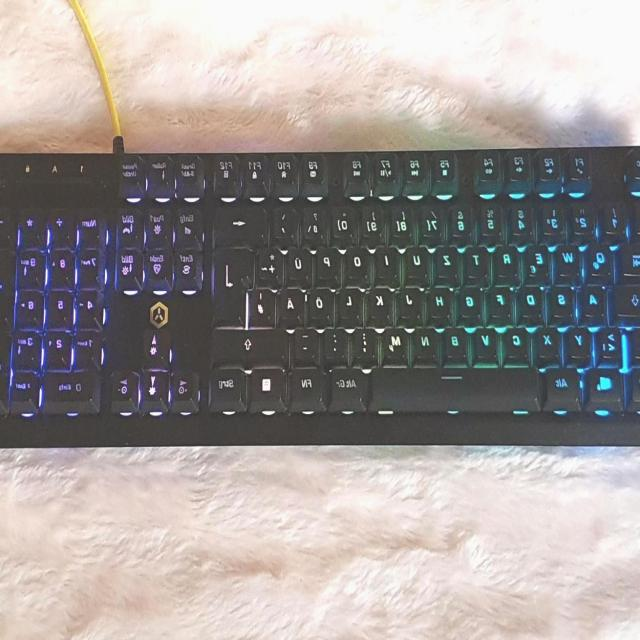0: (332, 202, 359, 240)
1: (604, 197, 630, 235)
2: (572, 202, 598, 236)
3: (542, 200, 568, 237)
4: (511, 202, 535, 236)
5: (480, 202, 506, 239)
6: (451, 200, 477, 239)
7: (421, 199, 447, 238)
8: (392, 199, 417, 243)
9: (362, 199, 388, 243)
a: (581, 284, 609, 322)
accent: (274, 204, 300, 244)
ae: (280, 285, 306, 324)
alt-left: (546, 365, 584, 409)
altgr-right: (331, 364, 368, 410)
b: (445, 324, 471, 362)
c: (505, 324, 533, 362)
caret: (630, 202, 640, 232)
comma: (354, 324, 380, 363)
d: (520, 285, 547, 322)
del: (216, 203, 271, 245)
e: (527, 241, 553, 282)
enter: (215, 244, 255, 325)
f: (489, 284, 515, 322)
g: (460, 284, 486, 322)
h: (430, 284, 454, 321)
hash: (249, 285, 278, 325)
i: (377, 243, 403, 283)
j: (399, 285, 425, 322)
k: (369, 283, 395, 323)
keyboard: (0, 141, 640, 447)
l: (339, 284, 365, 323)
less: (599, 324, 626, 364)
m: (383, 325, 411, 363)
minus: (296, 324, 322, 363)
n: (414, 324, 441, 362)
o: (346, 244, 374, 284)
oe: (308, 285, 336, 323)
p: (317, 244, 344, 283)
plus: (258, 245, 286, 285)
point: (324, 325, 350, 363)
q: (586, 243, 616, 281)
r: (495, 241, 523, 282)
s: (550, 284, 577, 322)
shift-left: (626, 326, 640, 359)
shift-lock: (613, 283, 640, 320)
shift-right: (212, 326, 292, 366)
space: (371, 364, 543, 412)
ss: (304, 204, 328, 242)
strg-left: (624, 364, 640, 402)
strg-right: (209, 364, 249, 410)
t: (466, 242, 492, 282)
tab: (622, 243, 640, 276)
u: (406, 243, 432, 283)
ue: (288, 245, 314, 283)
v: (475, 325, 501, 361)
w: (555, 241, 583, 283)
x: (537, 324, 563, 362)
y: (567, 324, 593, 361)
z: (437, 242, 463, 282)
